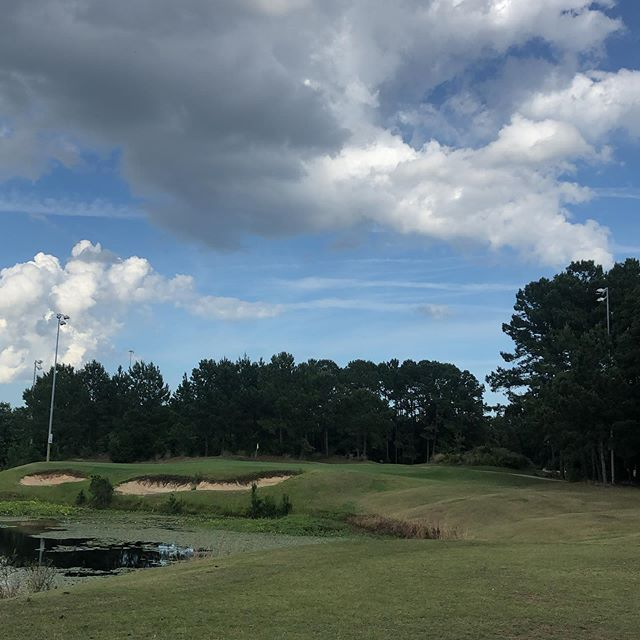river: (1, 495, 337, 606)
sky: (15, 1, 640, 345)
vegetation: (19, 278, 640, 480)
